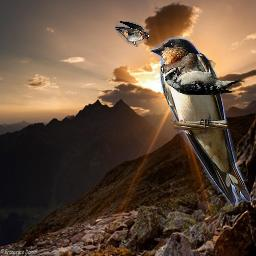Swallow: (149, 37, 251, 206), (115, 21, 149, 47)
Woodpecker: (165, 60, 245, 95)
